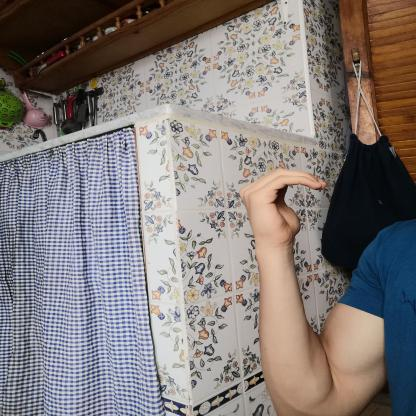HAA: (227, 158, 338, 247)
